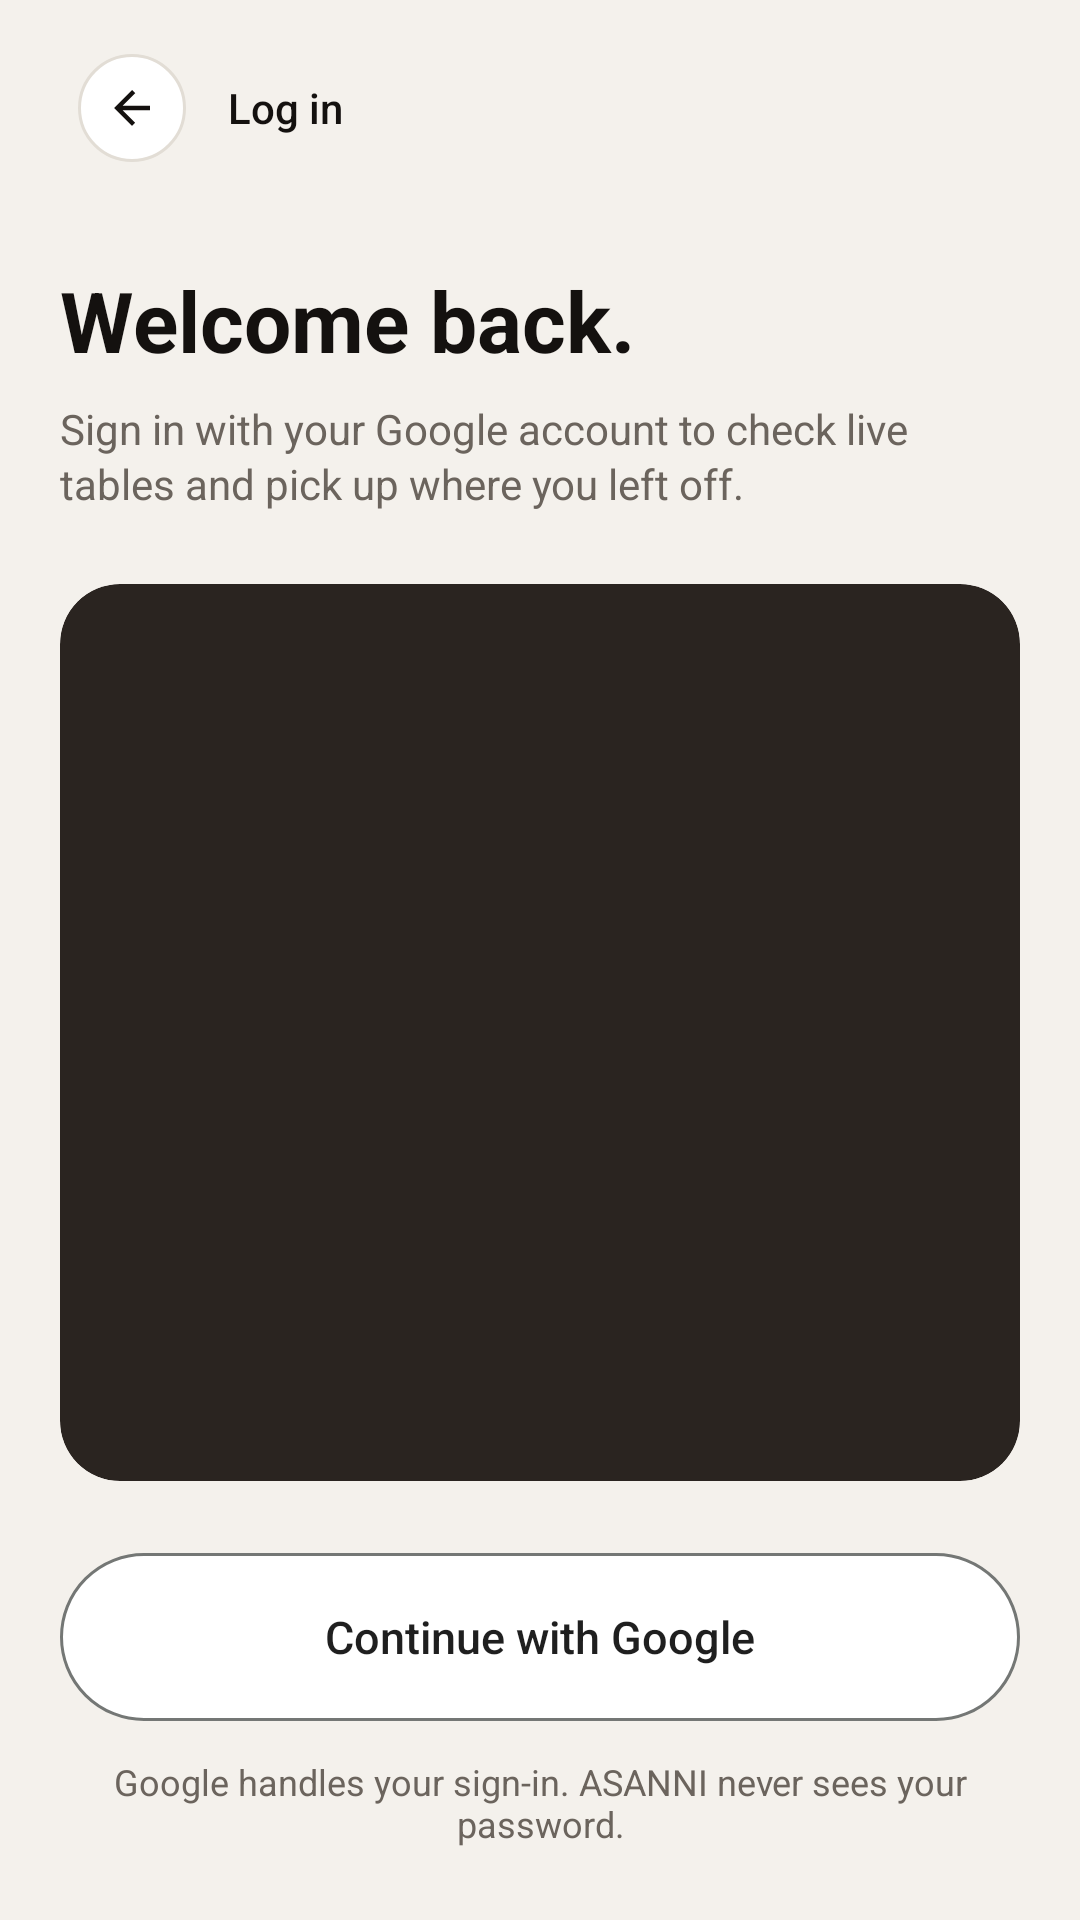

Icon bounding boxes for this 1080 × 1920 phone screenshot, format (x1, y1, x2, y2):
arrow back: (78, 54, 186, 162)
